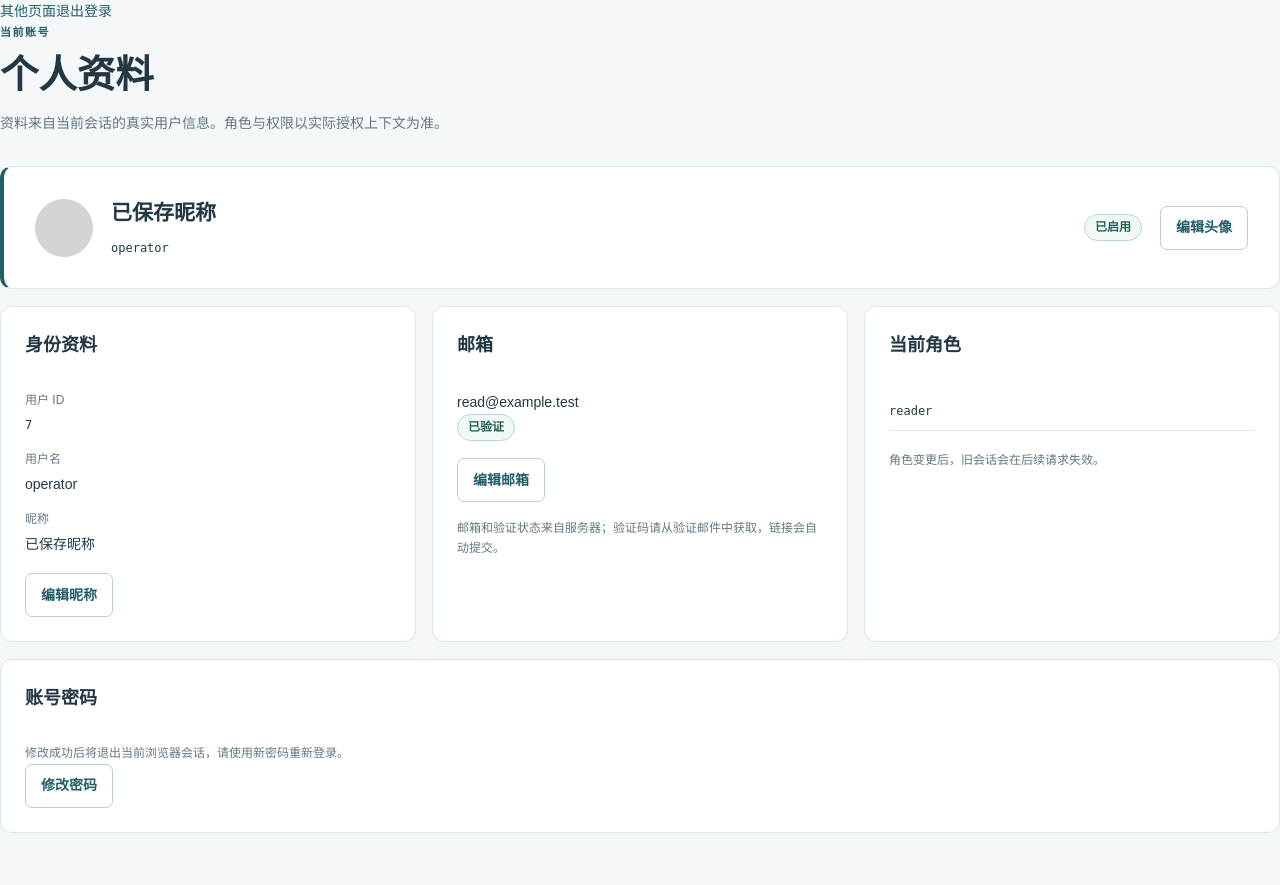
it: rendered profile self-service › still restores default and permits other editors after the real policy request fails
Click the button "编辑头像" at (1204, 228), box [1160, 206, 1248, 250]
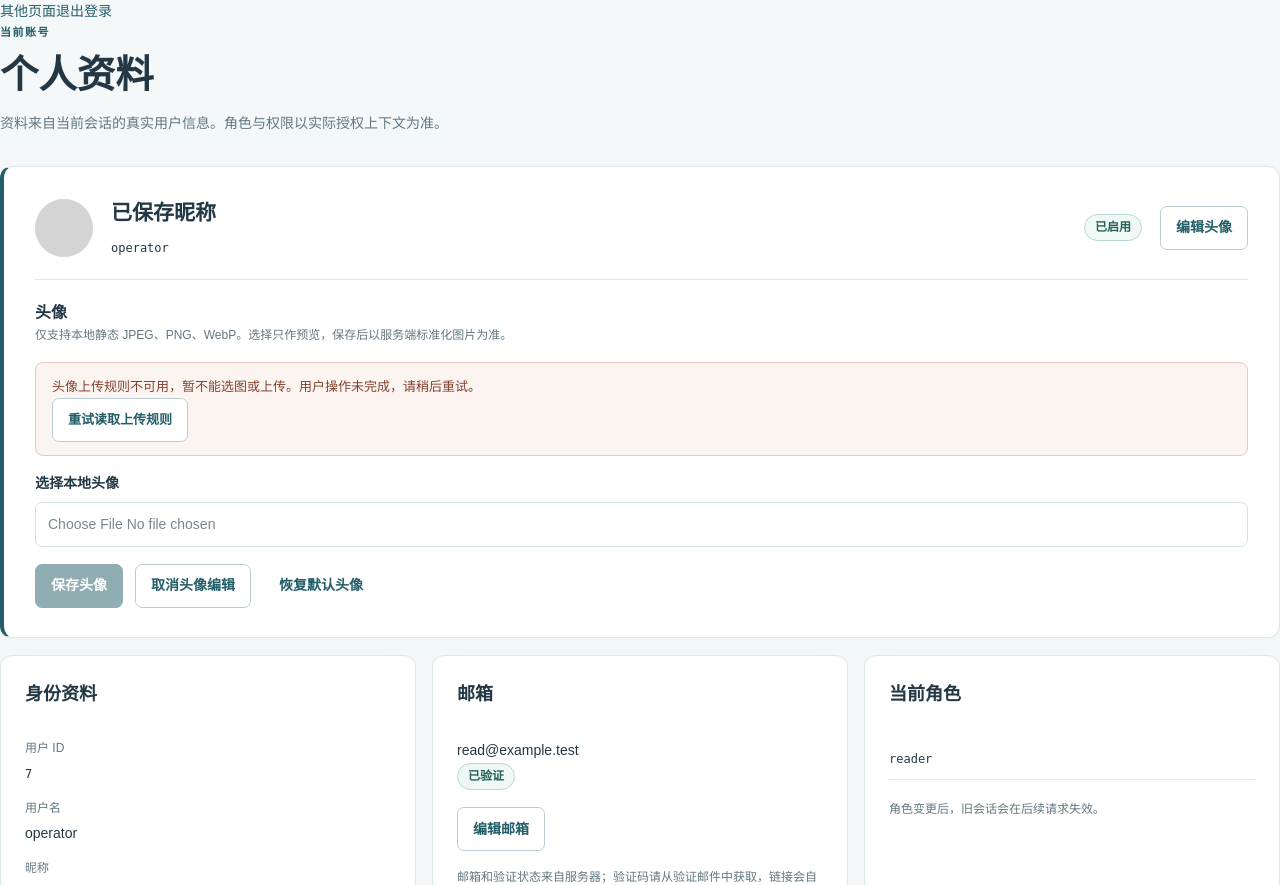
Now the file field labelled "选择本地头像" is disabled, box [35, 502, 1248, 547]
Click the button "恢复默认头像" at (321, 586), box [263, 564, 379, 608]
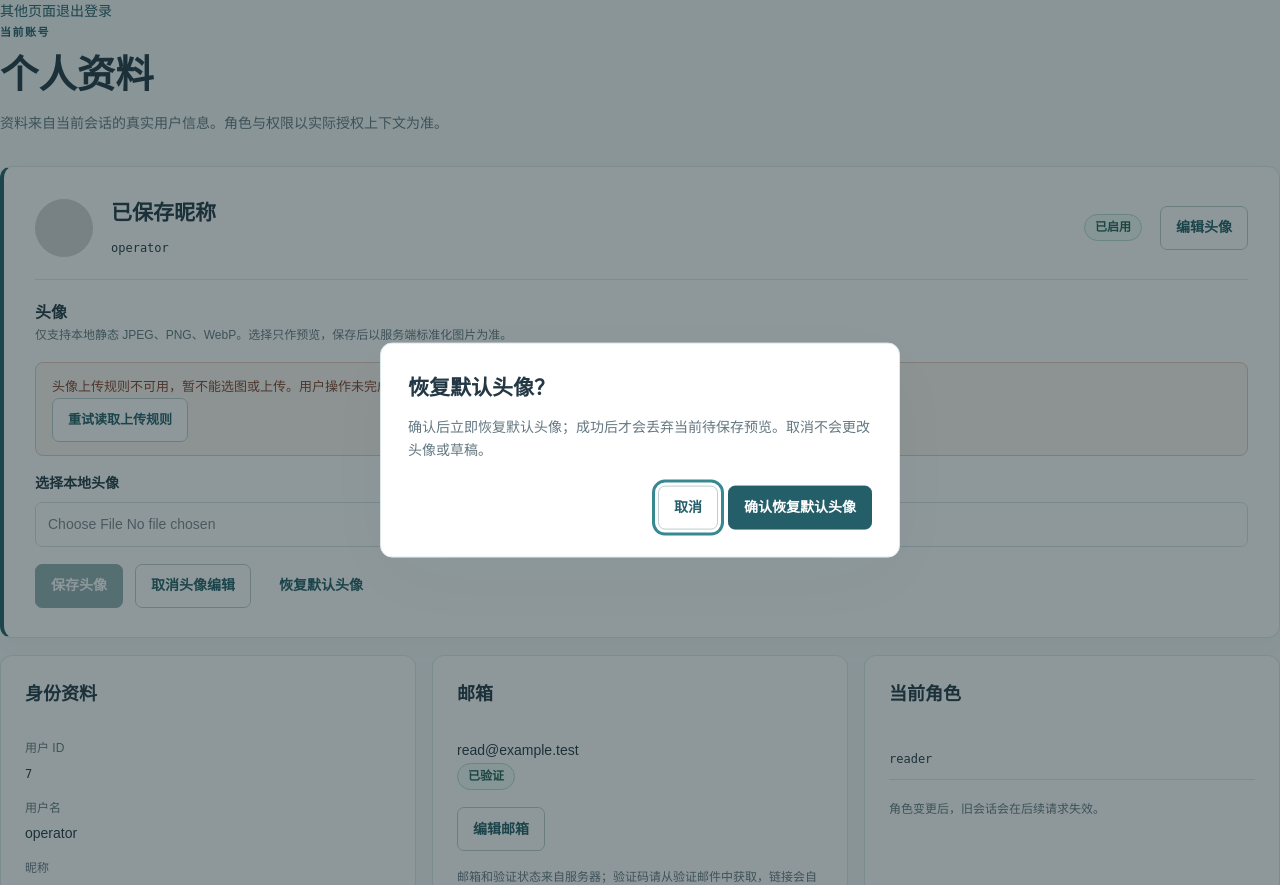
Click the button "确认恢复默认头像" at (800, 507), box [728, 485, 872, 529]
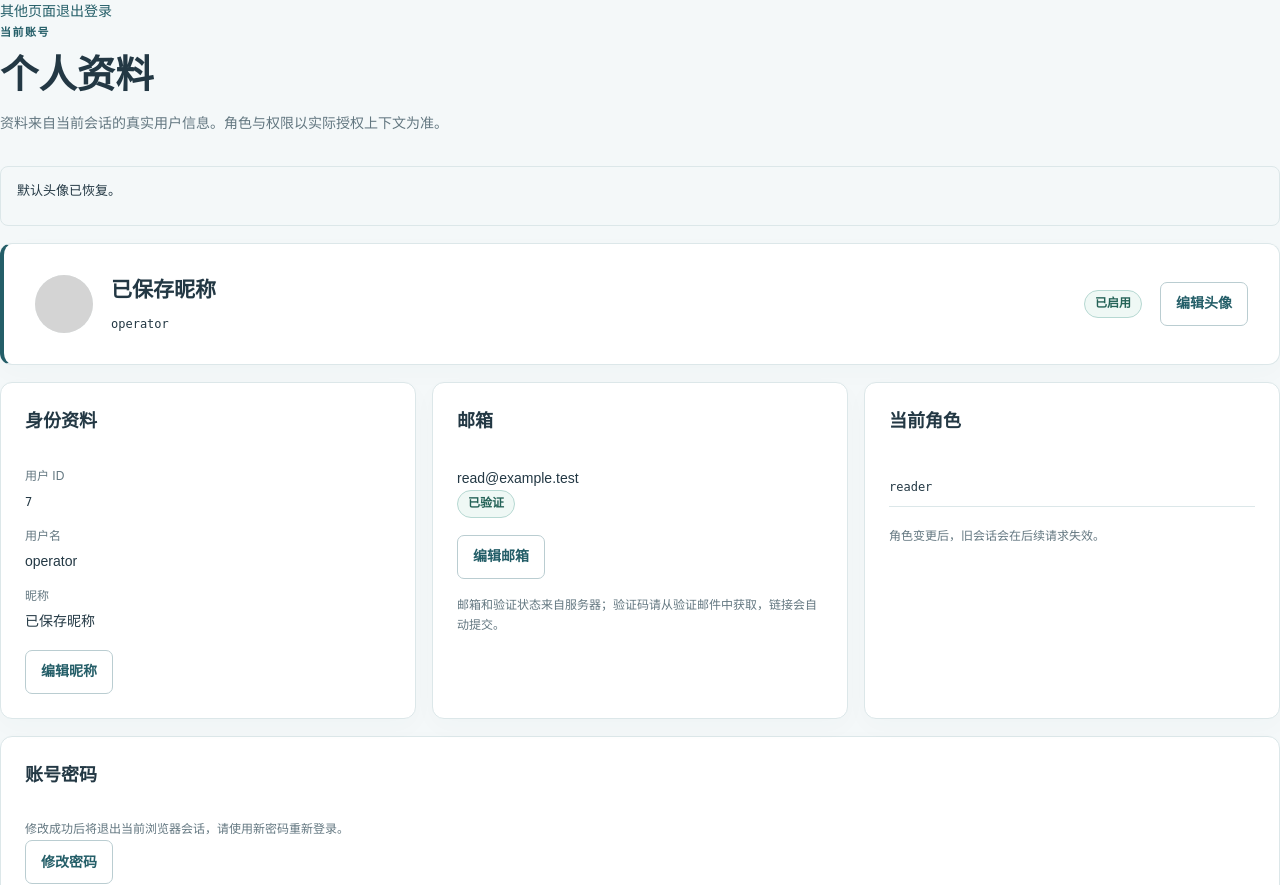
Now the text "默认头像已恢复" is shown, box [17, 183, 121, 198]
